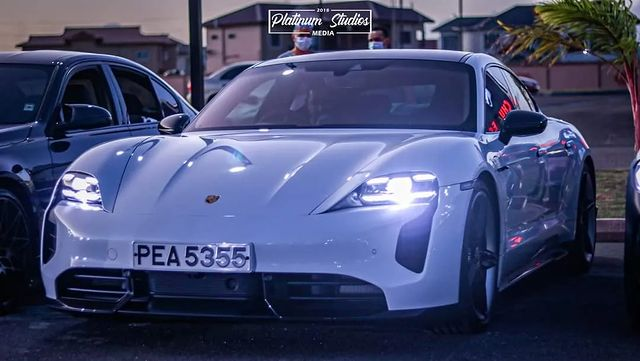License-Plate: (134, 241, 250, 269)
